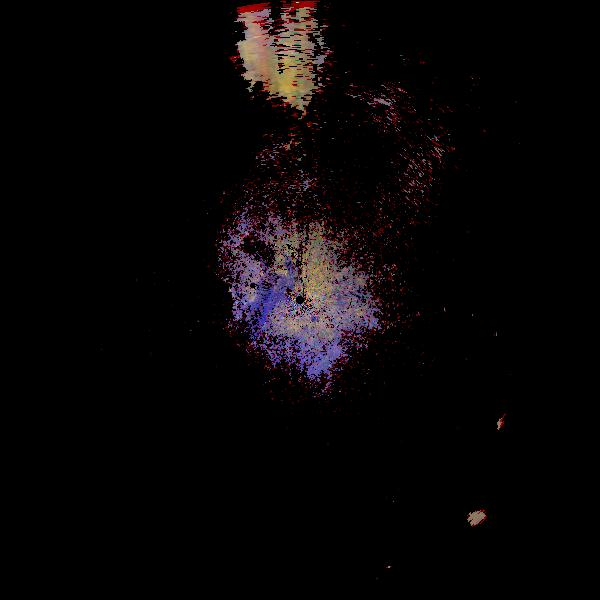roost: (480, 375, 597, 492), (443, 484, 557, 598)
